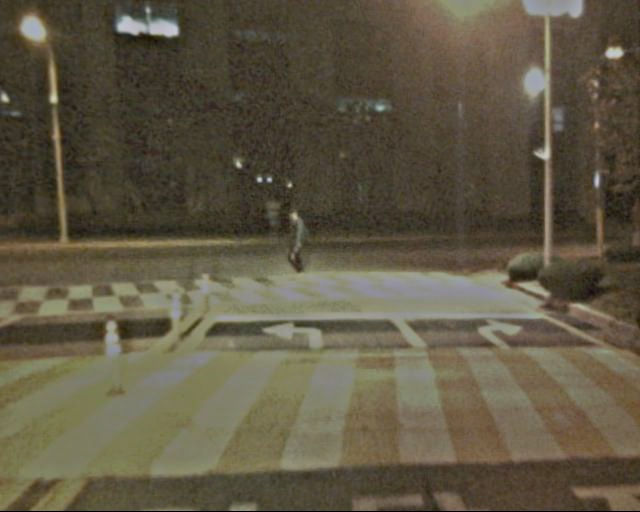person: (281, 211, 313, 289)
